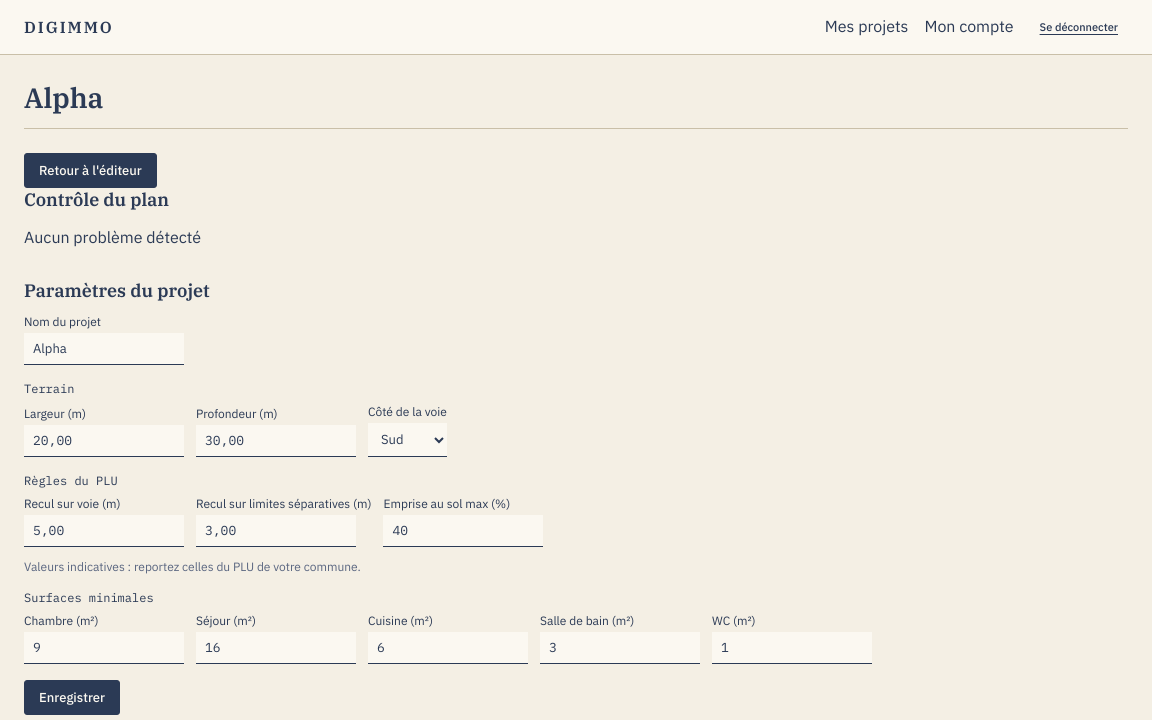
Test: page paramètres du projet › enregistrement : le focus passe sur le message de succès (le formulaire est remonté)
Replace the text in the field labelled "Recul sur voie (m)" with "6" at [104, 531], box [24,515,184,547]
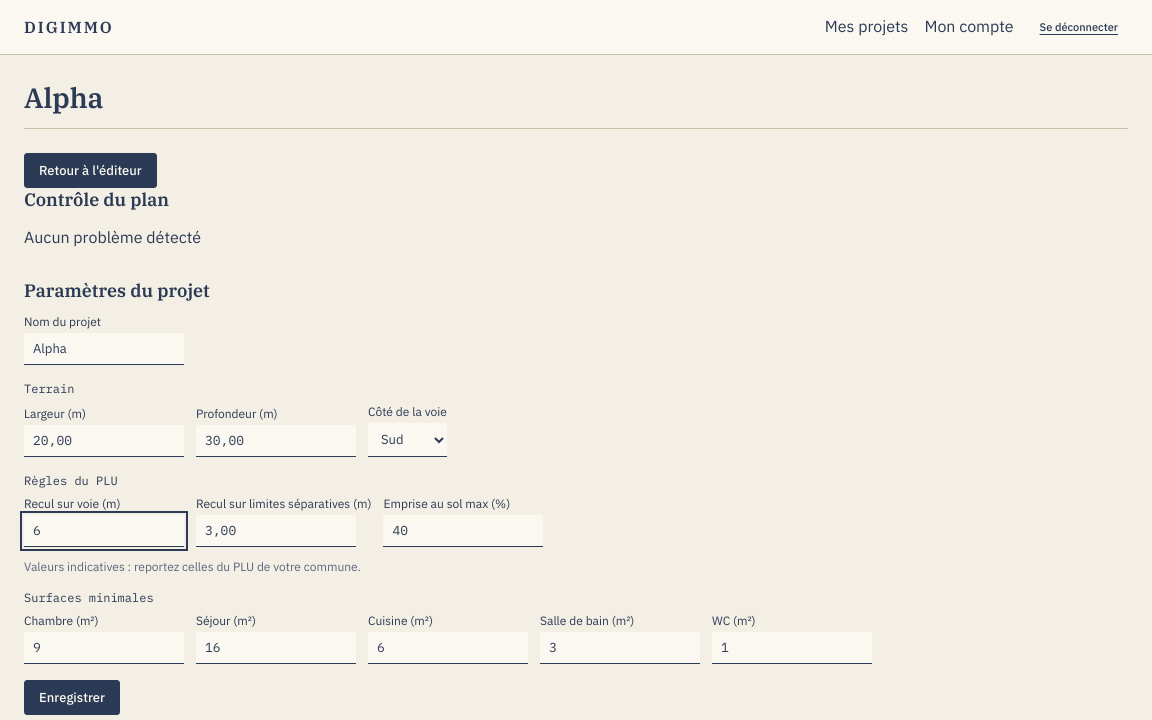
Click the button "Enregistrer" at [72, 698], box [24,680,120,715]
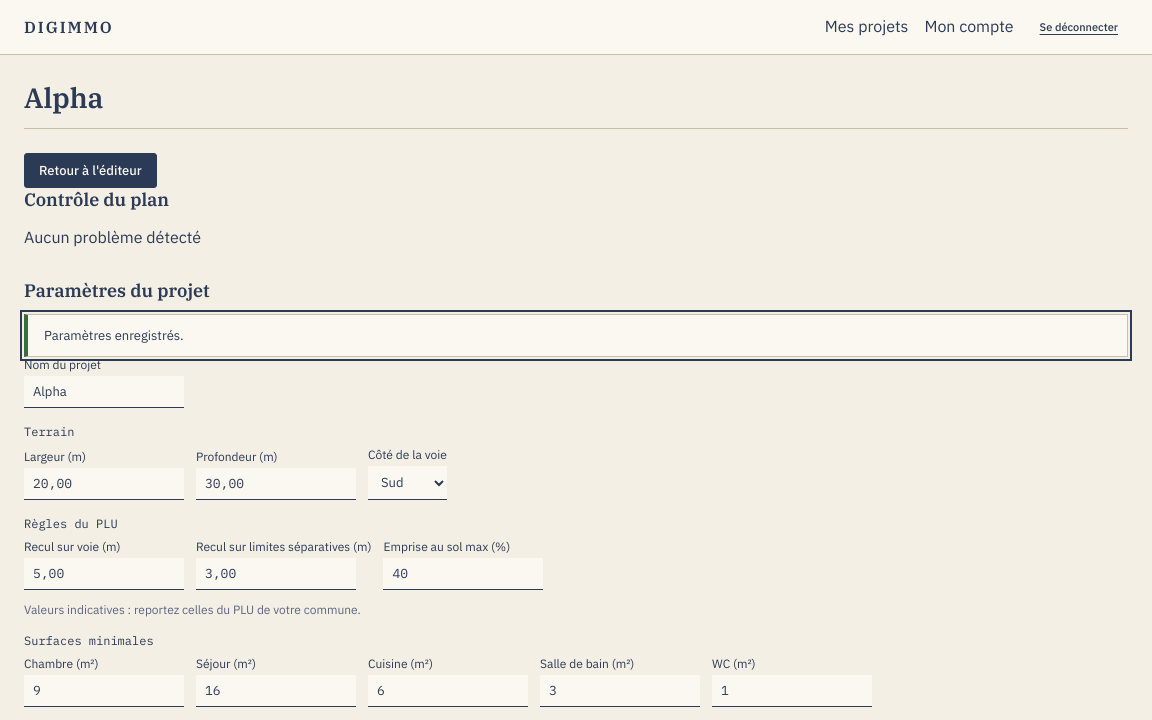
Result: the text "Paramètres enregistrés." is shown at [24,314,1128,357]
